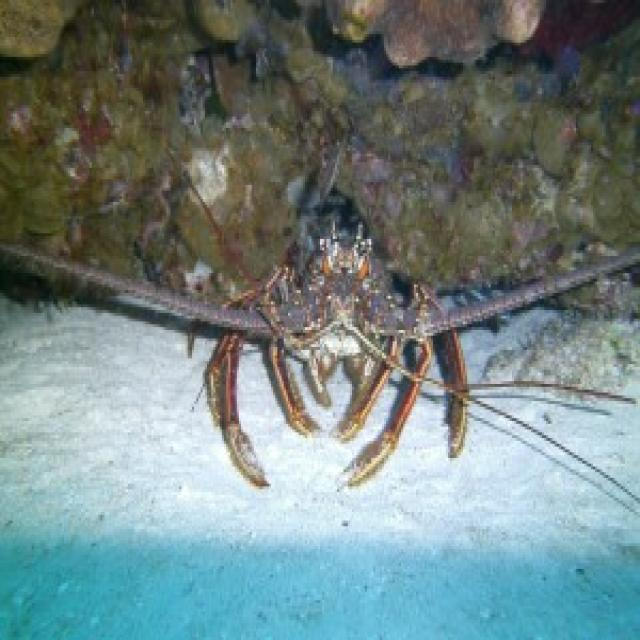lobsters: (2, 54, 640, 501)
